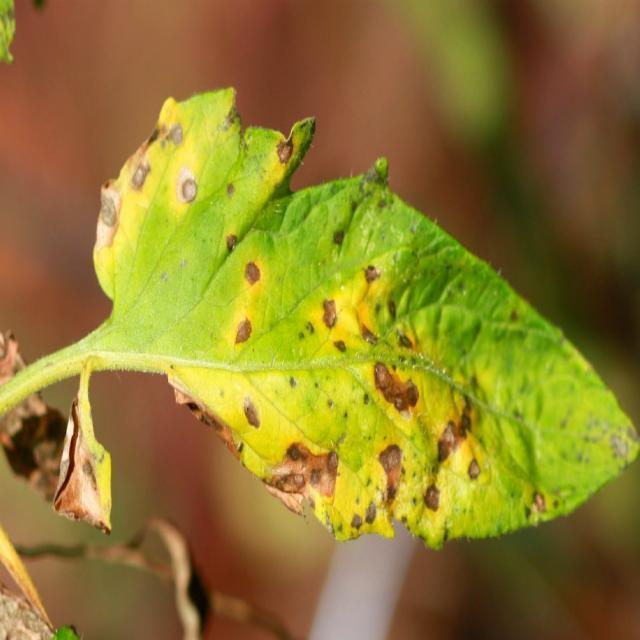Bacterial Spot: (222, 226, 548, 534), (102, 117, 291, 269)
